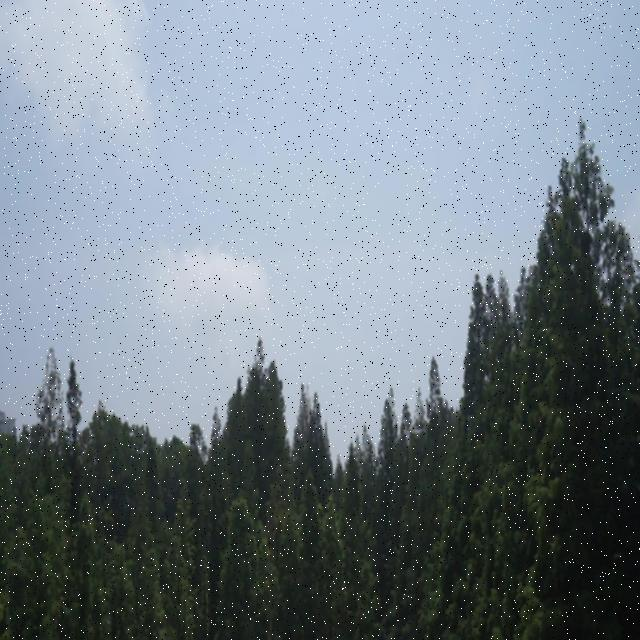UAV: (411, 429, 425, 439)
